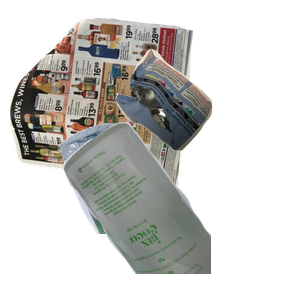glass: (60, 120, 300, 300)
paper: (10, 15, 196, 195)
plastic: (57, 120, 284, 300)
trash: (113, 46, 300, 189)
